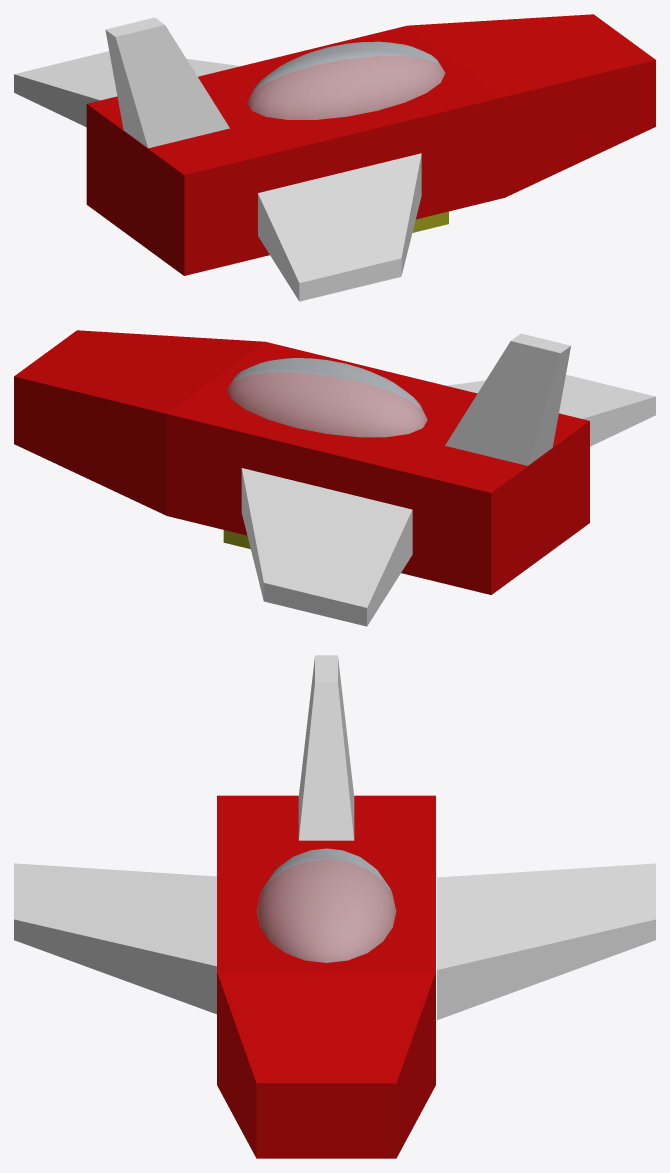
Rendered from SpaceshipModel.fbx.
3 views of the same model, one above another, from view 1: azimuth 30°, elevation 25°; view 2: azimuth 150°, elevation 25°; view 3: azimuth 270°, elevation 25° (orthographic). The views are drawn at different scales.
Visible parts, largest first — view 1: pCube2, pCube4, pSphere1, pCube5, pCube3, pCube6; view 2: pCube2, pCube3, pSphere1, pCube5, pCube4; view 3: pCube2, pCube3, pCube4, pSphere1, pCube5.
Part boxes in pixels (x1,y1,x2,y2): pCube2: [86, 14, 655, 275]; pCube4: [258, 153, 421, 301]; pSphere1: [247, 41, 445, 119]; pCube5: [105, 17, 229, 148]; pCube3: [14, 51, 240, 127]; pCube6: [412, 211, 448, 232]; pCube2: [14, 330, 589, 594]; pCube3: [241, 468, 412, 626]; pSphere1: [227, 358, 427, 437]; pCube5: [445, 333, 570, 465]; pCube4: [446, 374, 655, 446]; pCube2: [217, 795, 435, 1158]; pCube3: [437, 863, 655, 1020]; pCube4: [14, 863, 216, 1014]; pSphere1: [256, 848, 396, 962]; pCube5: [298, 655, 354, 840].
Size of the model in its own units: 3.05 by 1.47 by 2.93.
